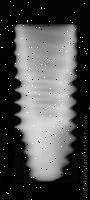Hiossen: (14, 24, 77, 183)
